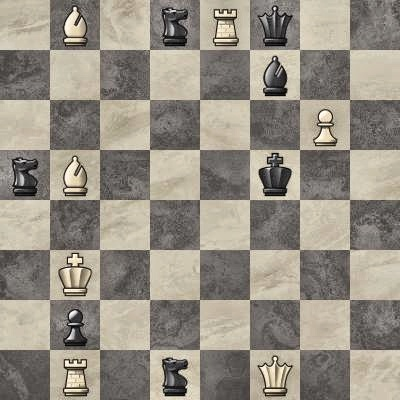black-bishop: (250, 50, 300, 100)
black-king: (250, 150, 300, 200)
black-knight: (150, 0, 200, 50), (0, 150, 50, 200), (150, 350, 200, 400)
black-pawn: (50, 300, 100, 350)
black-queen: (250, 0, 300, 50)
white-bishop: (50, 0, 100, 50), (50, 150, 100, 200)
white-king: (50, 250, 100, 300)
white-pawn: (300, 100, 350, 150)
white-queen: (250, 350, 300, 400)
white-rook: (200, 0, 250, 50), (50, 350, 100, 400)
